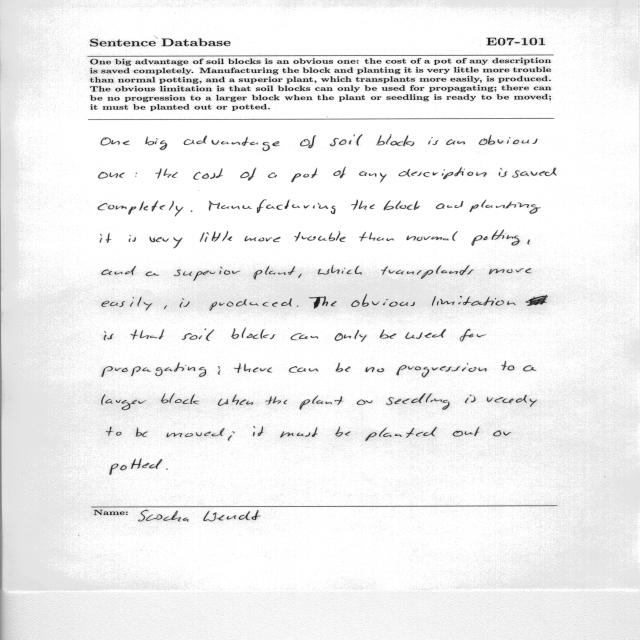word: (209, 200, 335, 214), (102, 362, 206, 377), (184, 136, 280, 151), (98, 201, 184, 217), (381, 265, 474, 279), (396, 363, 487, 377), (386, 393, 450, 410), (210, 298, 292, 311), (399, 167, 487, 179), (365, 427, 437, 441), (174, 266, 240, 281), (470, 200, 540, 214), (351, 294, 415, 307), (110, 459, 162, 475), (432, 296, 515, 306), (472, 230, 521, 246), (102, 394, 147, 410), (102, 297, 152, 311), (299, 395, 343, 410), (487, 395, 537, 407), (479, 135, 538, 145), (254, 266, 295, 280), (294, 231, 346, 242), (167, 428, 225, 437), (406, 231, 458, 241), (232, 328, 276, 339), (512, 168, 557, 178), (318, 265, 362, 275), (218, 394, 253, 406), (377, 135, 415, 146), (161, 393, 199, 404), (182, 328, 214, 341), (405, 329, 446, 339), (330, 135, 363, 147), (335, 330, 367, 342), (234, 363, 272, 373), (280, 428, 318, 438), (149, 237, 183, 248), (309, 296, 337, 309), (131, 329, 164, 340), (193, 168, 223, 180), (200, 231, 232, 242), (292, 169, 317, 183), (460, 329, 486, 342), (384, 201, 420, 210), (359, 232, 394, 241), (146, 136, 168, 150), (359, 172, 387, 183), (102, 266, 136, 275), (453, 427, 480, 437), (526, 294, 548, 306), (489, 268, 532, 274), (351, 200, 375, 210), (101, 138, 130, 146), (436, 201, 463, 209), (245, 236, 281, 242), (300, 136, 316, 149), (241, 168, 257, 181), (155, 169, 178, 178), (289, 366, 318, 373), (291, 333, 318, 340), (266, 396, 287, 405), (99, 172, 125, 179), (335, 426, 351, 437), (380, 330, 397, 339), (107, 426, 122, 436), (333, 167, 346, 178), (135, 427, 148, 437), (336, 363, 350, 372), (100, 233, 112, 243), (502, 361, 515, 370), (446, 139, 465, 145), (493, 431, 512, 437), (253, 427, 264, 437), (465, 395, 476, 404), (365, 367, 384, 372), (180, 299, 190, 308), (357, 399, 372, 405), (104, 331, 113, 340), (428, 137, 438, 145), (523, 365, 536, 371), (499, 168, 507, 177), (228, 431, 235, 441), (146, 271, 159, 276), (268, 172, 277, 178), (129, 235, 136, 242), (298, 273, 302, 278), (218, 366, 220, 375), (527, 240, 530, 245), (164, 305, 167, 309), (135, 173, 137, 177), (191, 210, 192, 212), (297, 305, 298, 307), (166, 469, 168, 470)
